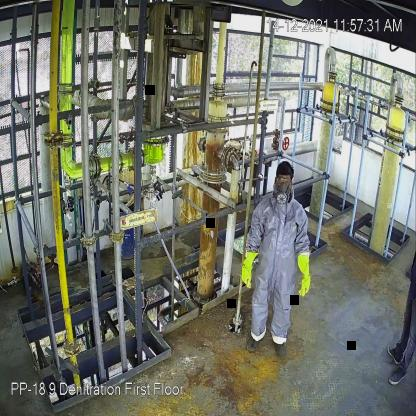goggles: (277, 176, 291, 186)
mask: (275, 184, 291, 207)
